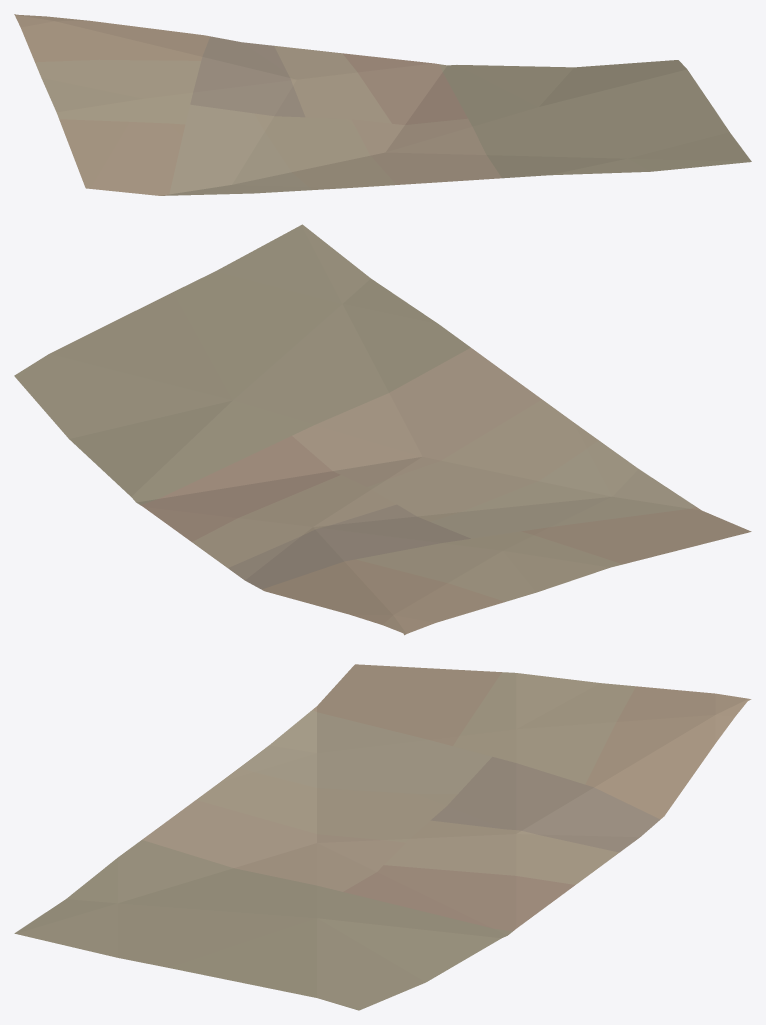
The model's file is farm_12_3_soil.glb.
3 views of the same model, one above another, from view 1: azimuth 30°, elevation 25°; view 2: azimuth 150°, elevation 25°; view 3: azimuth 270°, elevation 25° (orthographic). The views are drawn at different scales.
Parts seen in each view (by area): view 1: geometry_0; view 2: geometry_0; view 3: geometry_0.
Part boxes in pixels (box(x1,y1,x2,y2)): geometry_0: box(14, 14, 751, 195); geometry_0: box(14, 224, 751, 635); geometry_0: box(14, 664, 751, 1010).
Bounding box in the file's own units: 310 × 25.9 × 296.
